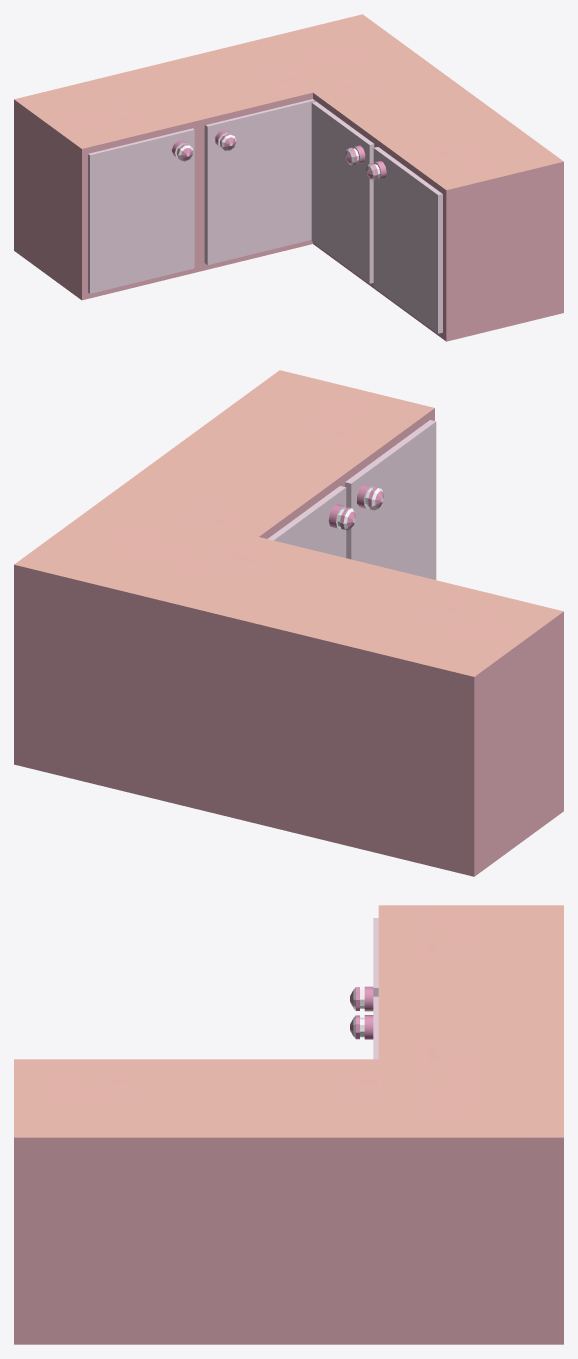
File: Cabinet_Pink_Lower_Corner.FBX
The picture shows the model from 3 angles, top to bottom: view 1: azimuth 30°, elevation 25°; view 2: azimuth 150°, elevation 25°; view 3: azimuth 270°, elevation 25°; orthographic projection. The views are drawn at different scales.
Visible parts, largest first — view 1: Cabinet_Pink_Lower_Corner, Cabinet_Pink_Lower02, Cabinet_Pink_Lower01, Cabinet_Pink_Lower04, Cabinet_Pink_Lower03; view 2: Cabinet_Pink_Lower_Corner, Cabinet_Pink_Lower04, Cabinet_Pink_Lower03; view 3: Cabinet_Pink_Lower_Corner, Cabinet_Pink_Lower01, Cabinet_Pink_Lower02.
Part boxes in pixels (x1,y1,x2,y2): Cabinet_Pink_Lower_Corner: (14,14,563,341); Cabinet_Pink_Lower02: (204,99,315,265); Cabinet_Pink_Lower01: (88,128,194,293); Cabinet_Pink_Lower04: (366,147,442,333); Cabinet_Pink_Lower03: (311,101,374,283); Cabinet_Pink_Lower_Corner: (14,370,563,876); Cabinet_Pink_Lower04: (345,420,436,579); Cabinet_Pink_Lower03: (268,486,355,557); Cabinet_Pink_Lower_Corner: (14,905,563,1344); Cabinet_Pink_Lower01: (350,918,378,1011); Cabinet_Pink_Lower02: (350,996,378,1059).
Bounding box in the file's own units: 200 × 82.98 × 200.
